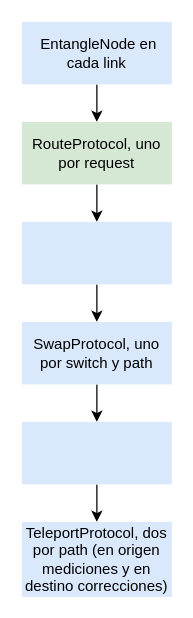
Some shapes in this 193 by 618 pixel diagram are drawn without their labels. Here are the shapes that lost their labels. From the top down, the centre of each, then its label:
At (96,252): "DistilProtocol, uno por path que lo requiere".
At (96,452): "CorrectProtocol, uno por path y end node".
